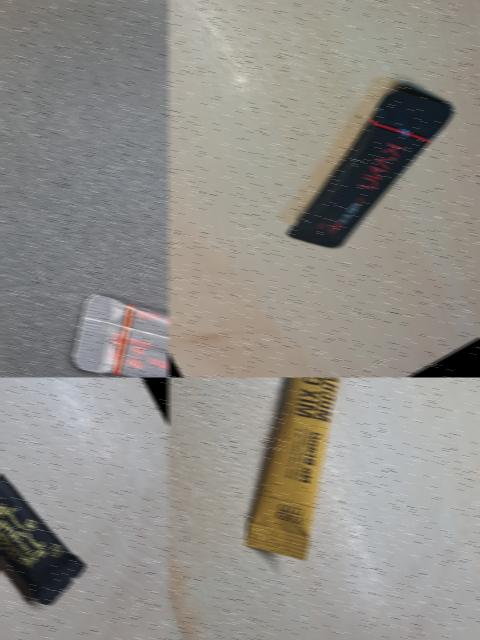KANU: (232, 48, 480, 285), (33, 180, 169, 377)
espresso_mini: (0, 377, 106, 640)
mix_coffee: (167, 377, 480, 604)
